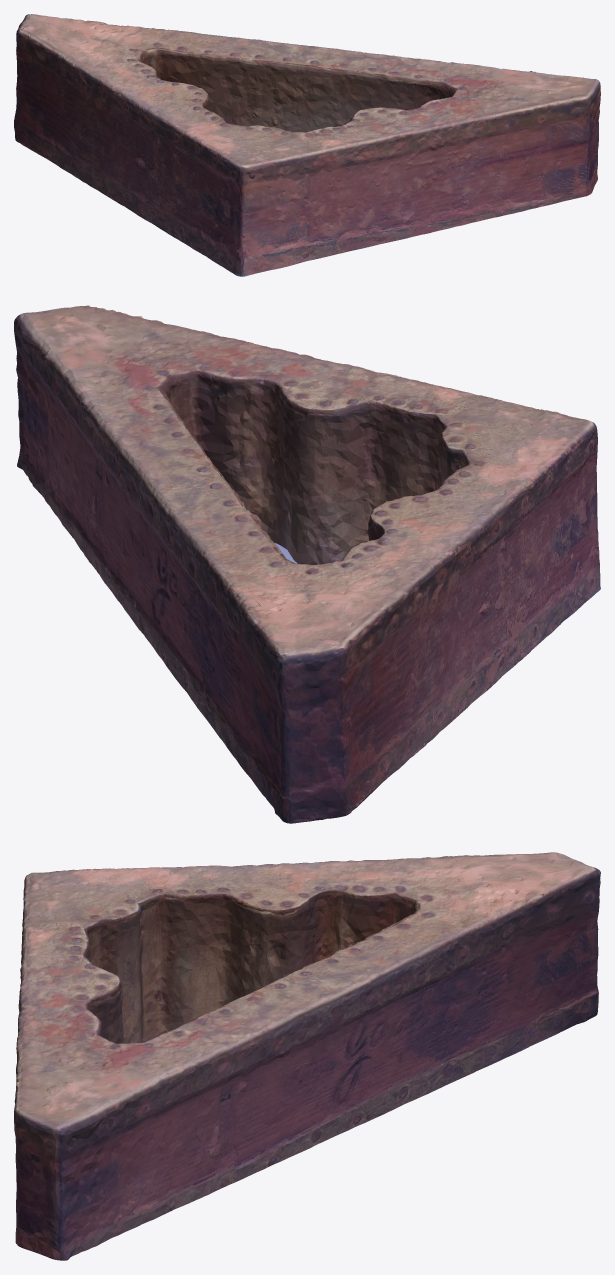
Rendered from MoldeLow.glb.
3 renders of one model, top to bottom at view 1: azimuth 30°, elevation 25°; view 2: azimuth 150°, elevation 25°; view 3: azimuth 270°, elevation 25°, orthographic. The views are drawn at different scales.
Parts seen in each view (by area): view 1: Gaudi_Molde; view 2: Gaudi_Molde; view 3: Gaudi_Molde.
Boxes of the visible parts, left/top/right/bottom form: Gaudi_Molde: left=14, top=14, right=600, bottom=276; Gaudi_Molde: left=14, top=305, right=600, bottom=823; Gaudi_Molde: left=14, top=852, right=600, bottom=1260.
Size of the model in its own units: 0.2178 by 0.0573 by 0.2039.
Materials: 1 (1 with a texture image).
